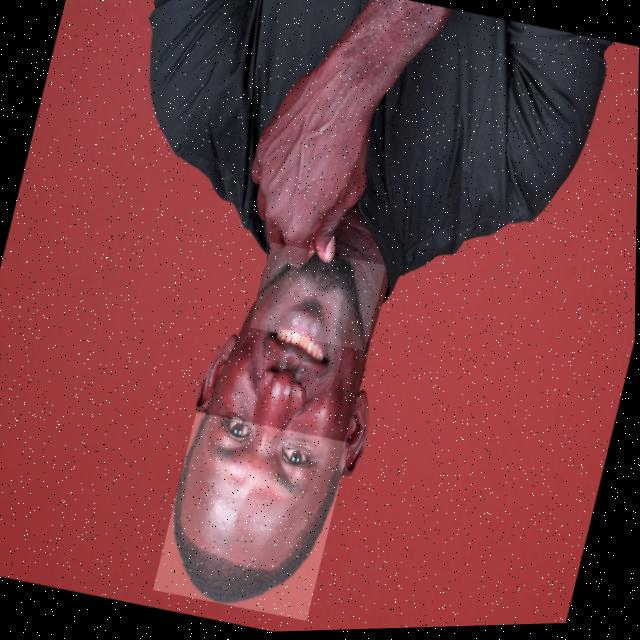beard: (259, 256, 367, 353)
hair: (175, 415, 343, 604)
